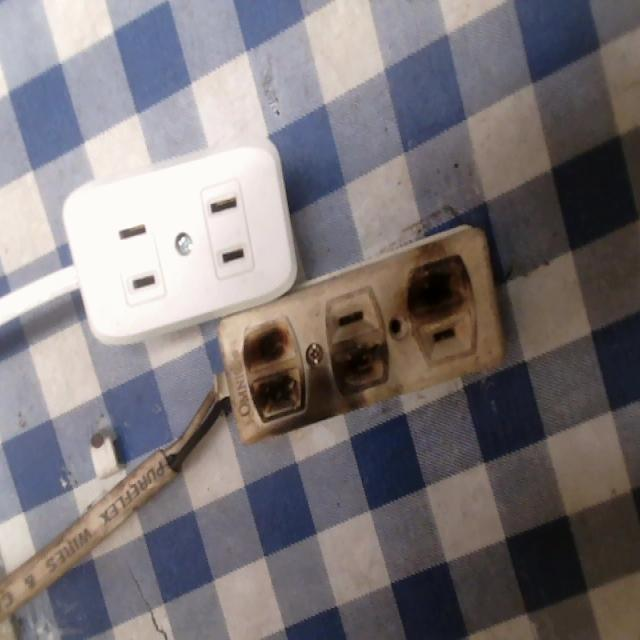-: (237, 310, 312, 422), (404, 256, 476, 320), (328, 343, 393, 400)
